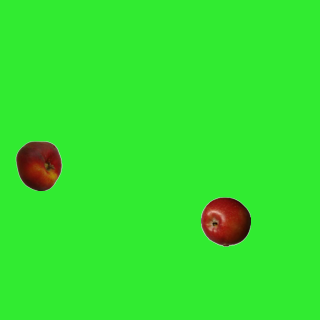Apple Braeburn: (200, 196, 250, 246)
Nectarine Flat: (13, 140, 63, 190)
